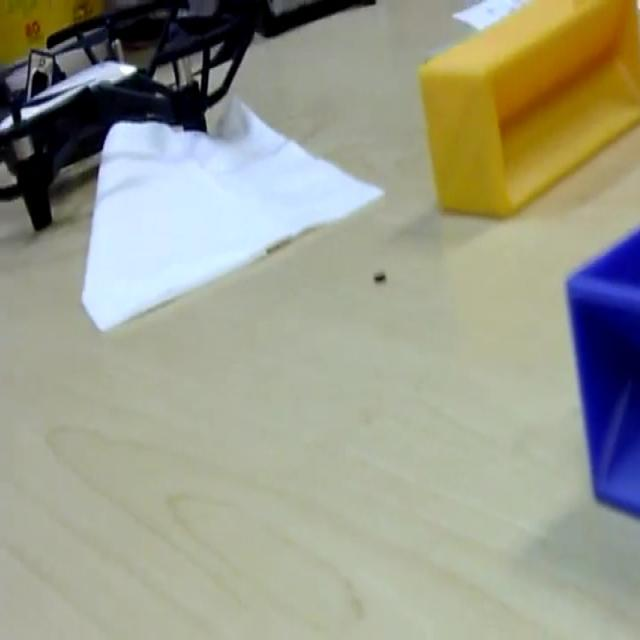blue_block: (562, 220, 638, 517)
yellow_block: (417, 0, 637, 217)
